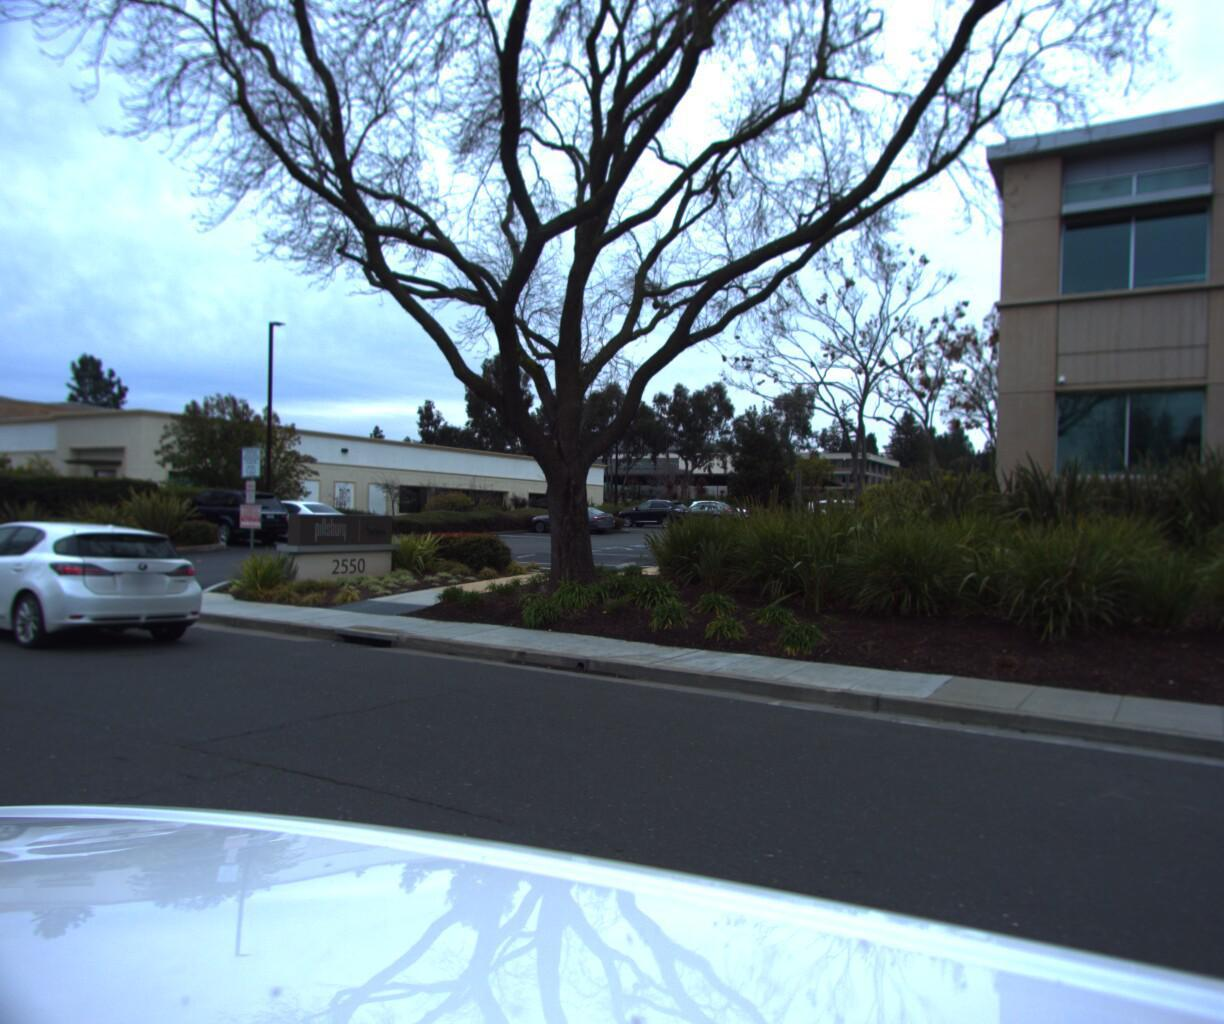car: (0, 514, 215, 666), (149, 489, 298, 546)
